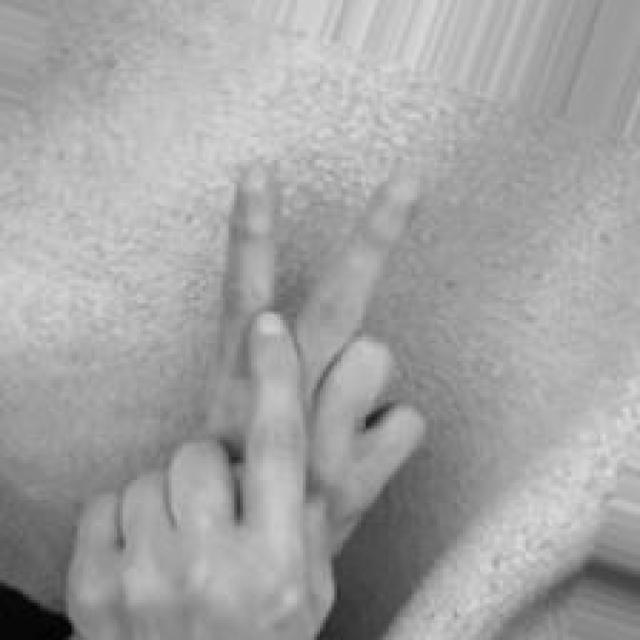Y: (66, 151, 428, 640)
